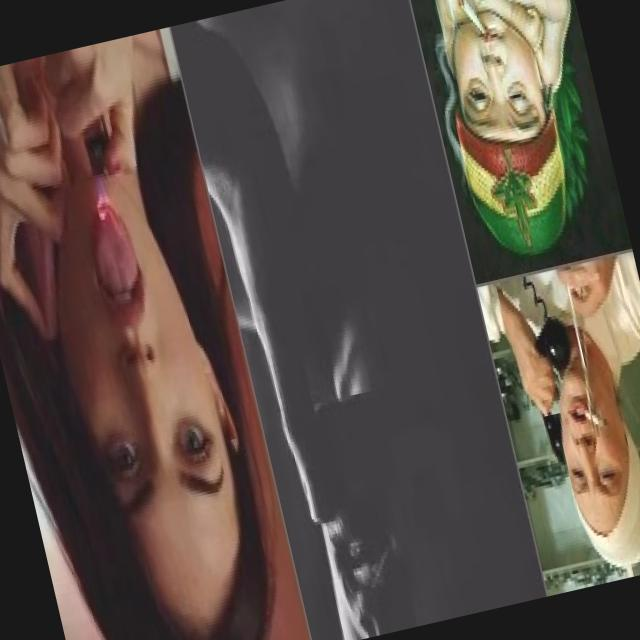smoke: (455, 0, 491, 43), (582, 402, 613, 436)
